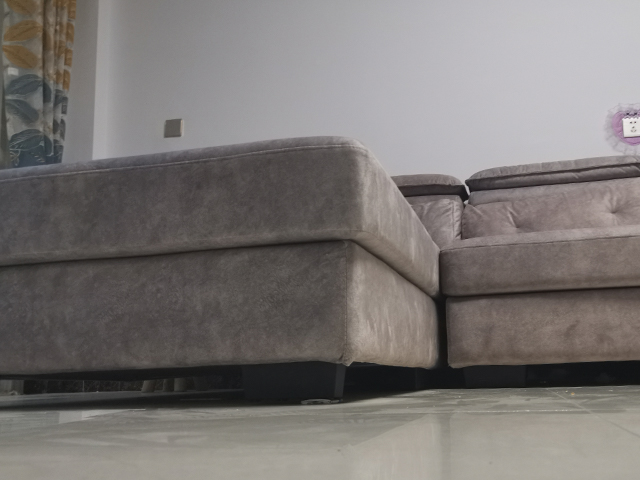sofa: (1, 134, 640, 407)
